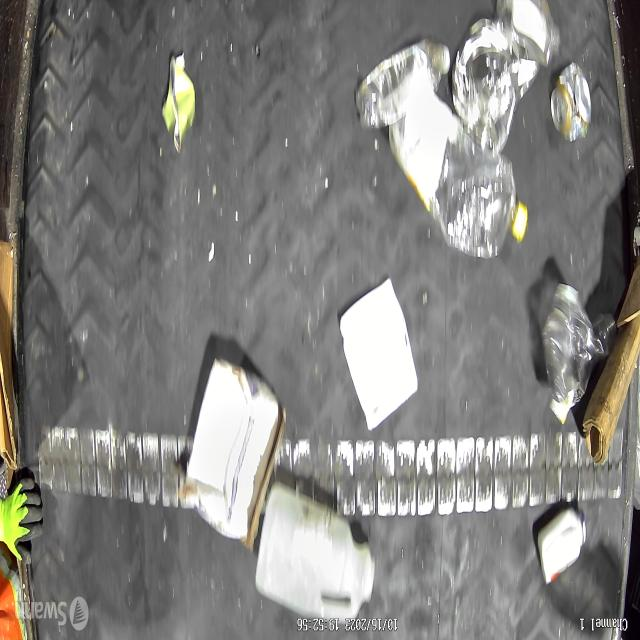can: (546, 62, 600, 151), (162, 55, 196, 157)
milk_jug: (252, 470, 378, 622)
plastic_bottle: (384, 80, 526, 260), (537, 280, 613, 424), (350, 35, 453, 134)
